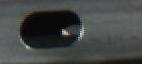holes: (16, 8, 83, 50)
